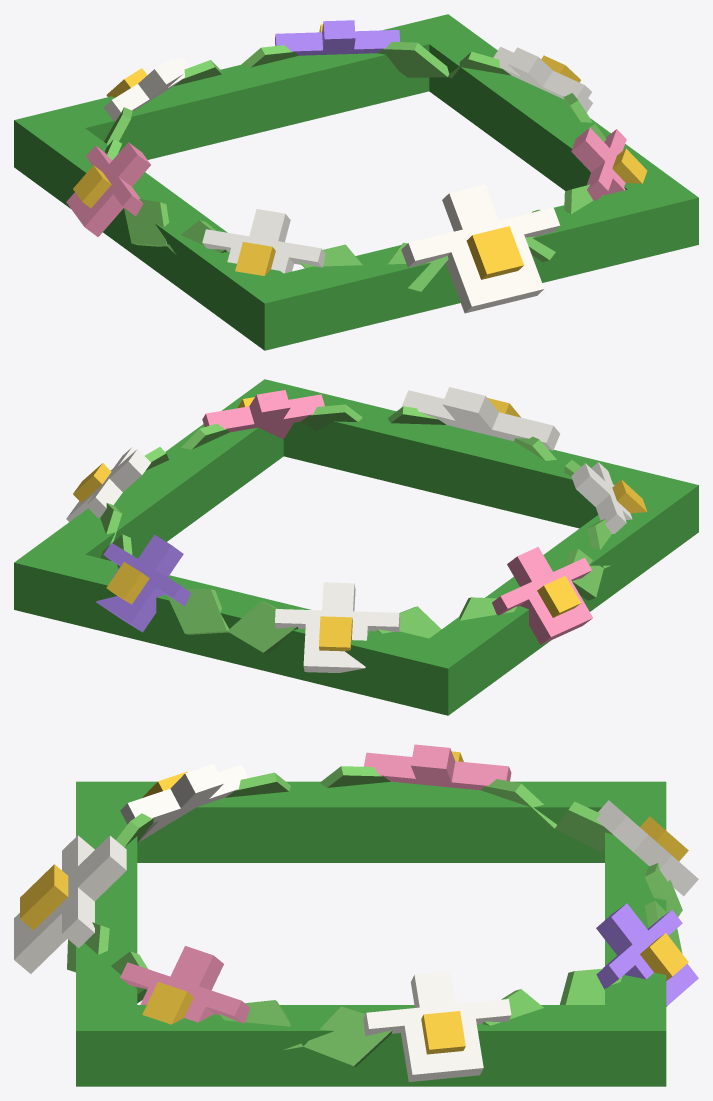
File: flower-crown-blocky.glb
3 views of the same model, one above another, from view 1: azimuth 30°, elevation 25°; view 2: azimuth 150°, elevation 25°; view 3: azimuth 270°, elevation 25° (orthographic). The views are drawn at different scales.
Parts seen in each view (by area): view 1: flower-crown; view 2: flower-crown; view 3: flower-crown.
Part boxes in pixels (x1,y1,x2,y2): flower-crown: (14, 14, 698, 350); flower-crown: (14, 379, 698, 715); flower-crown: (14, 744, 698, 1086).
Bounding box in the file's own units: 0.18 × 0.0333 × 0.1783.
